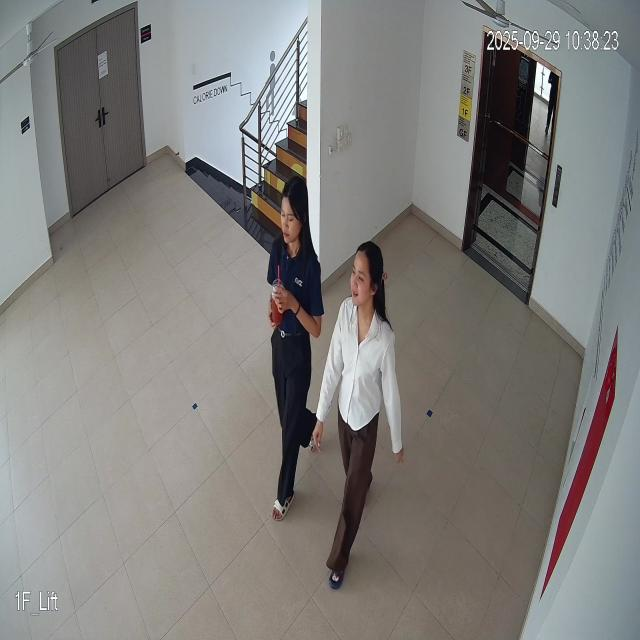face: (348, 236, 383, 314), (277, 173, 310, 246)
